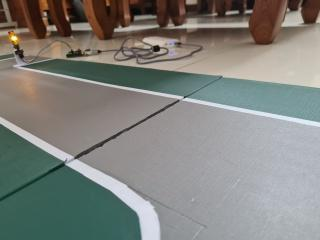yellow: (4, 27, 28, 52)
